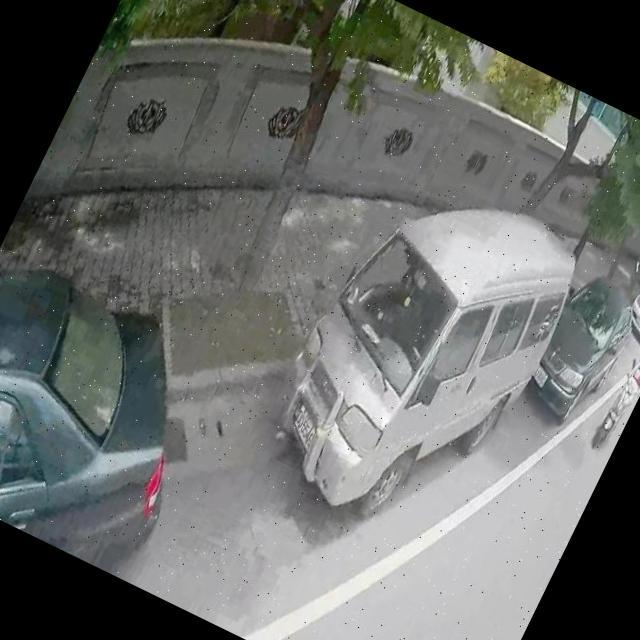person: (619, 341, 640, 396)
